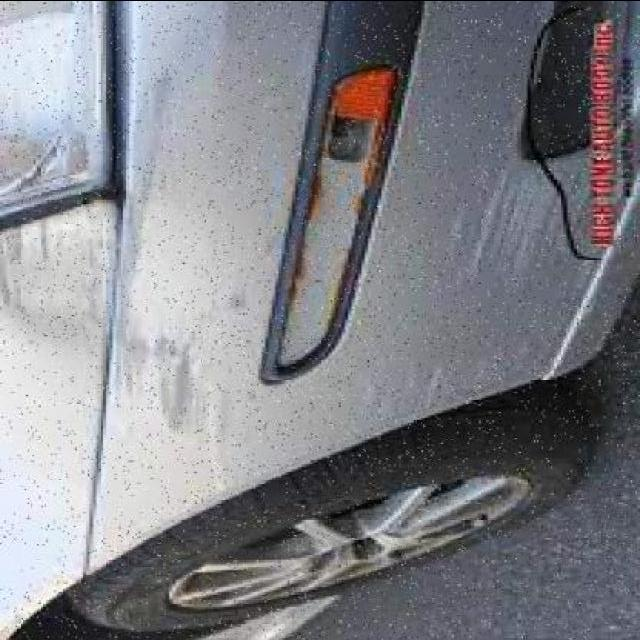front-bumper-dent: (86, 2, 637, 495)
